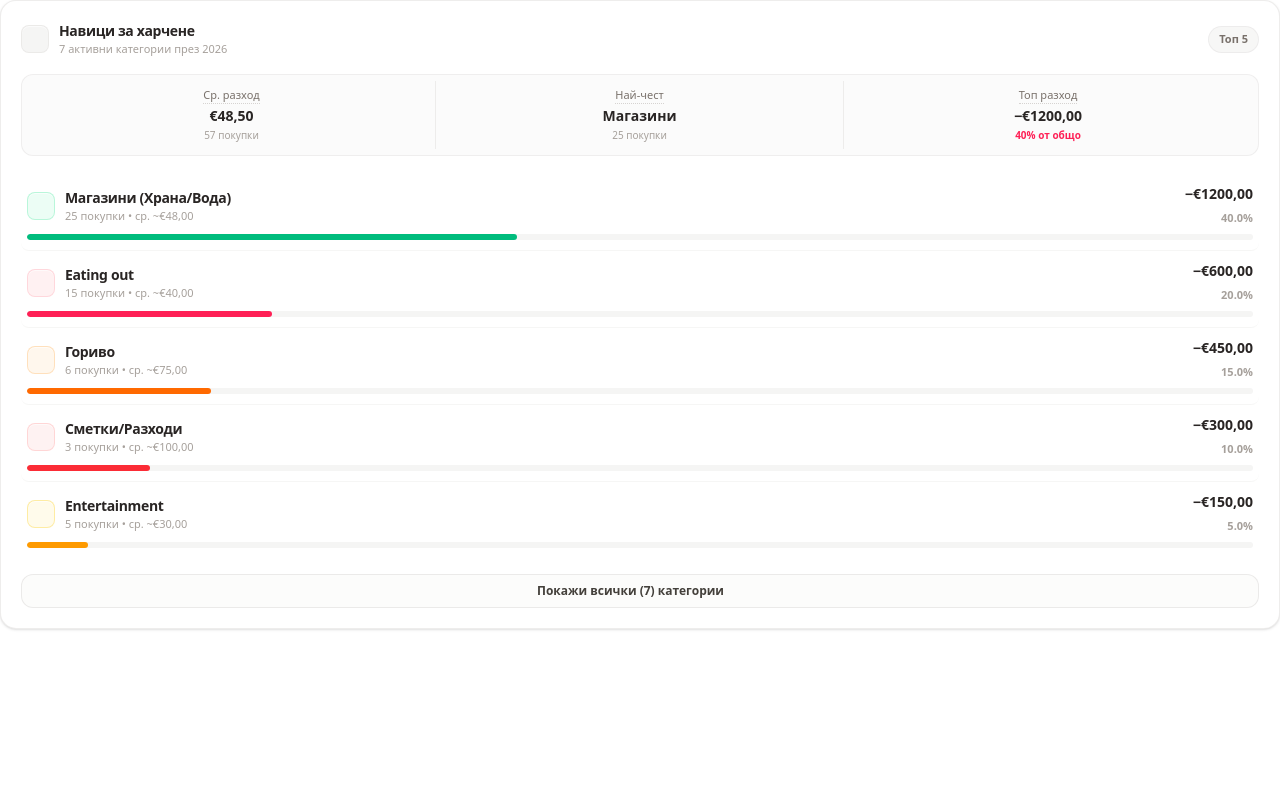
Test case: SpendingHabits Component › expands and collapses the category list when clicking the expander button
What coordinates should you click on to do the following:
click the button "Покажи всички (7) категории"
I would click on:
 (640, 591)
Its box is [21, 574, 1259, 608].
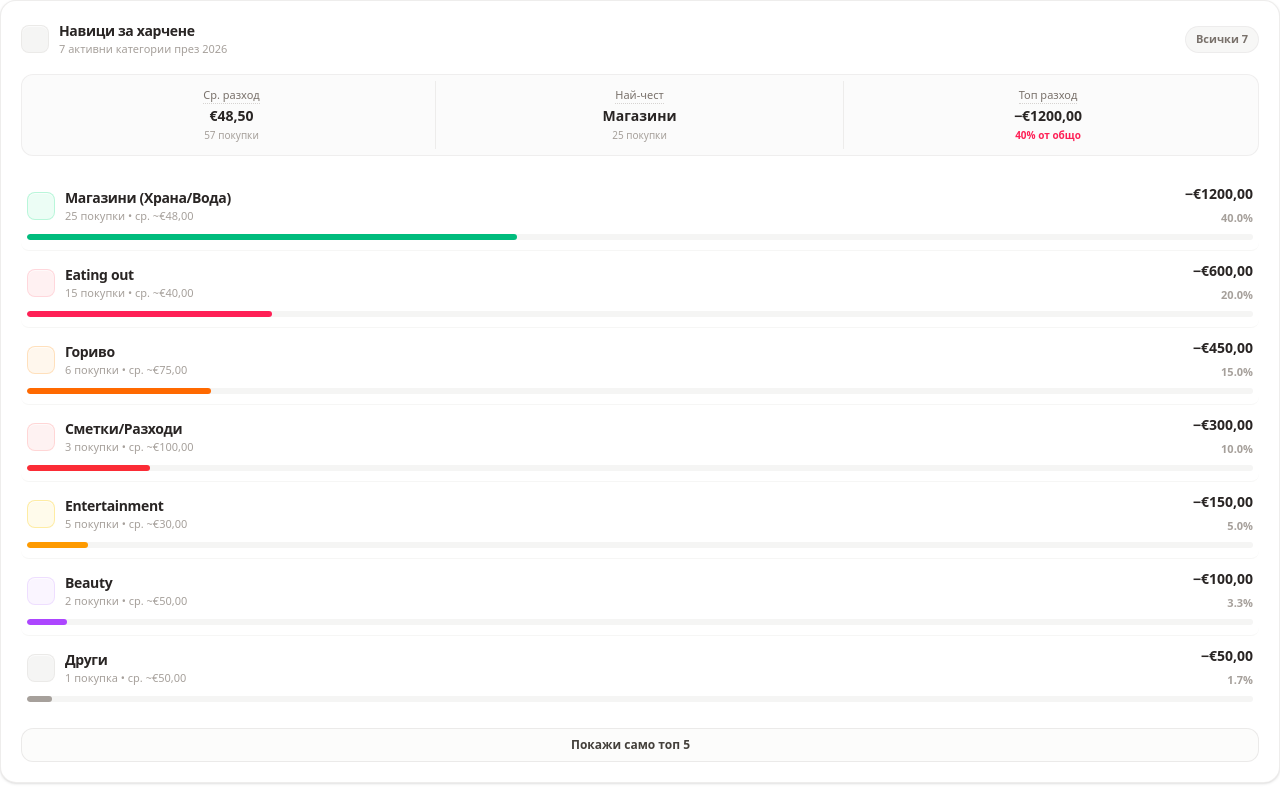
Check: the text "Beauty" is shown, box [65, 573, 112, 592]
Check: the text "Други" is shown, box [65, 650, 107, 669]
Check: the text "Покажи само топ 5" is shown, box [571, 737, 690, 753]
What coordinates should you click on to do the following:
click the button "Покажи само топ 5"
I would click on:
 (640, 745)
Its box is [21, 728, 1259, 762].
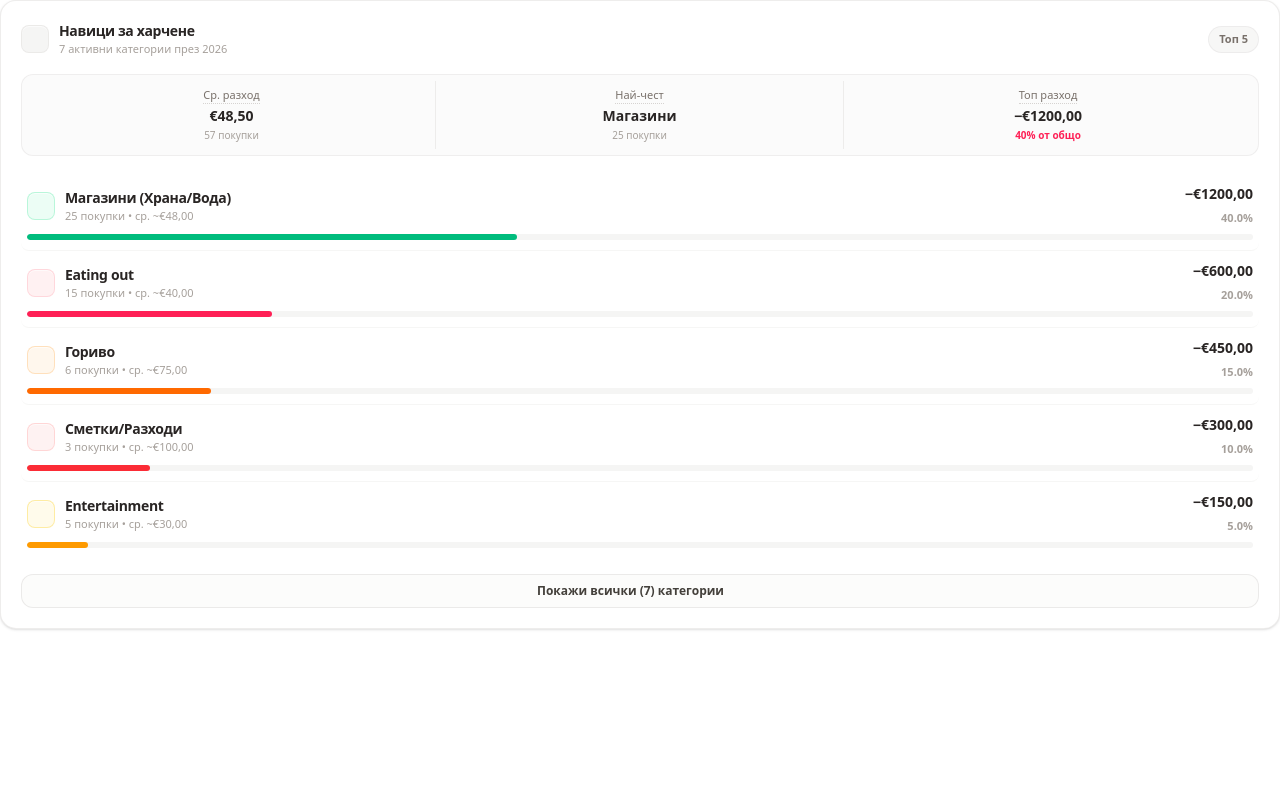
Check: the text "Beauty" is gone
Check: the text "Други" is gone
